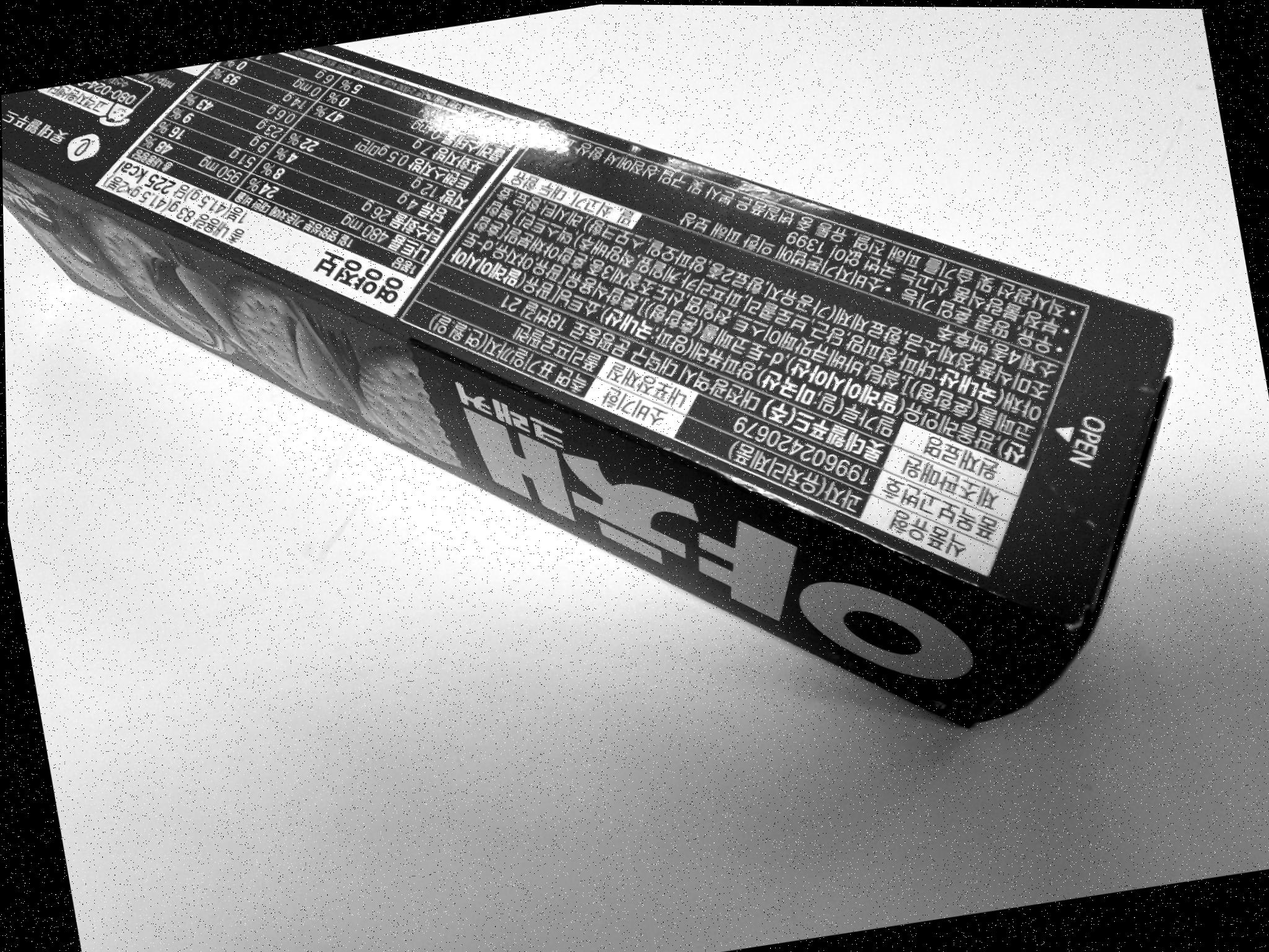cracker_vege: (1, 45, 1171, 727)
